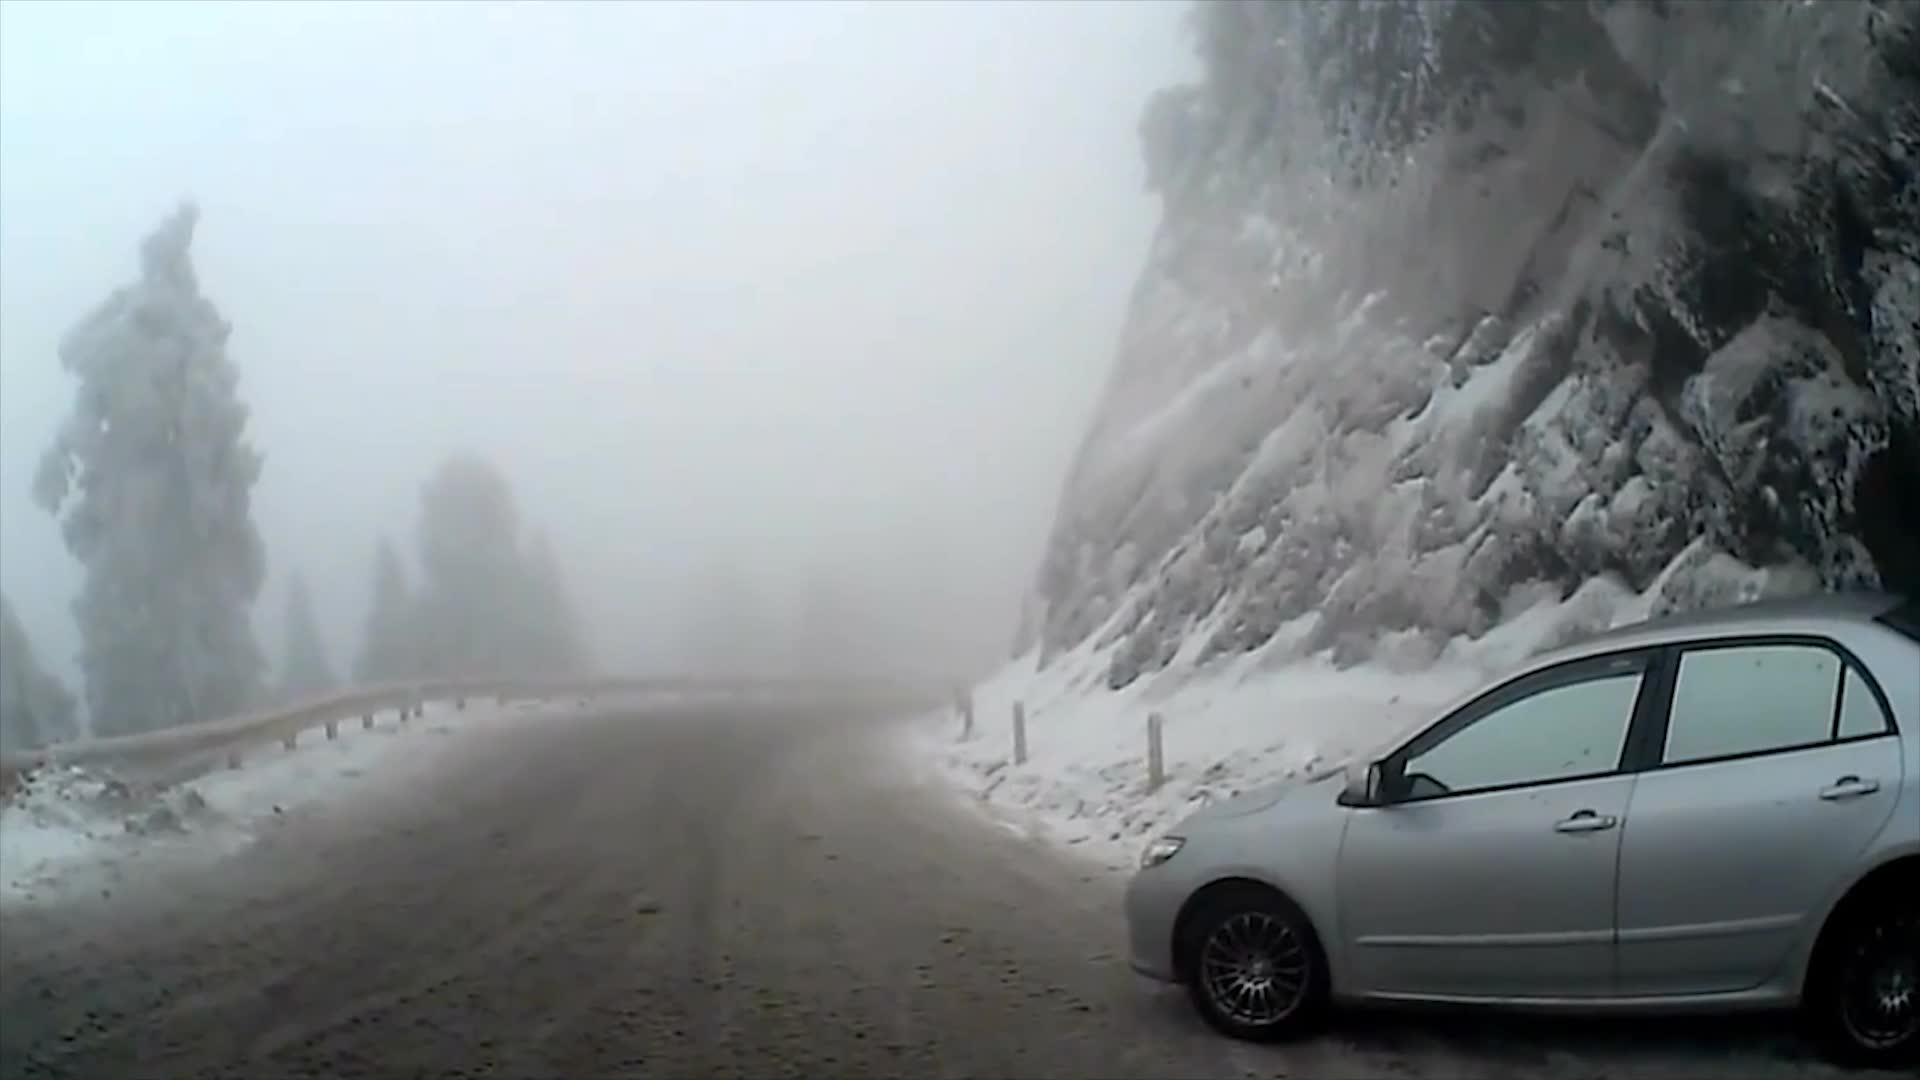vehicle: (1121, 587, 1920, 1073)
